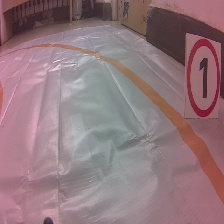limit: (183, 30, 222, 121)
